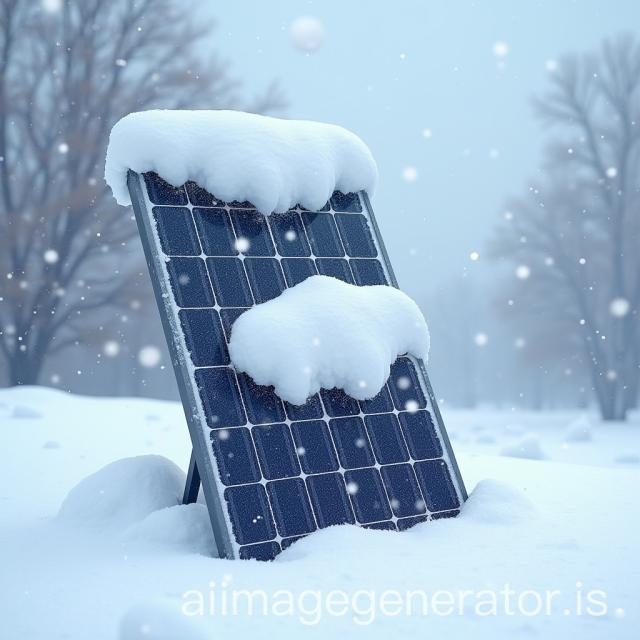Anomaly Solar Panel: (101, 53, 473, 602)
Snow: (100, 95, 382, 226), (217, 261, 437, 421), (233, 498, 472, 566)
